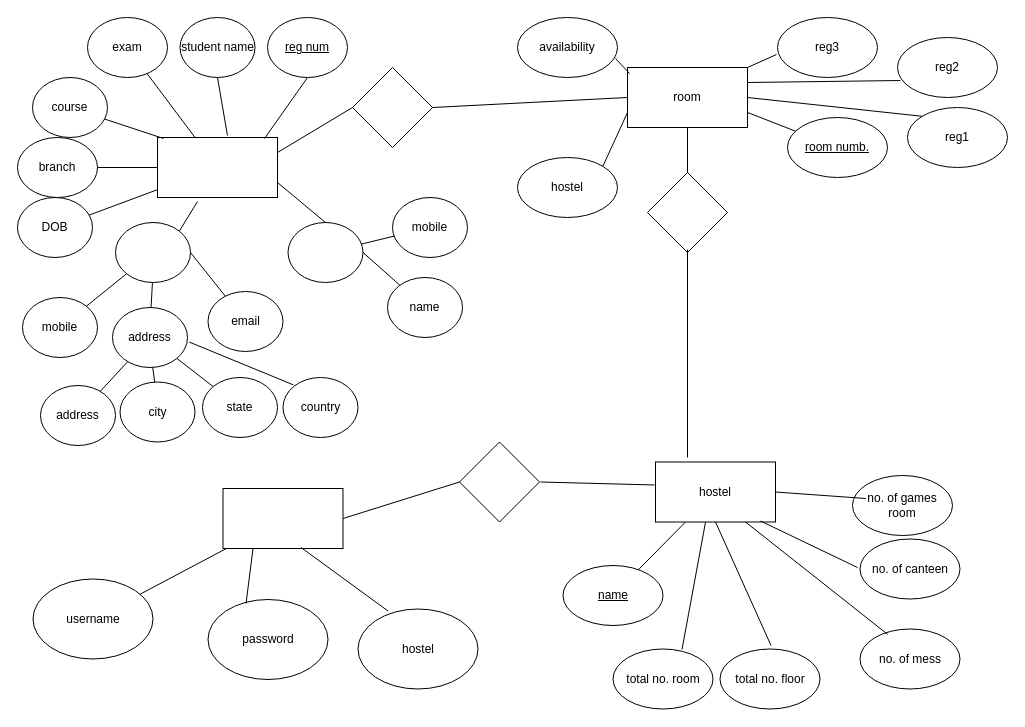
Image size: 1025x727. Some labels were removed from this diagram. The shapes that lost their labels are listed below. From the top down, each one's centre as x and y in pixels, then its label:
At point (392, 107): "stays".
At point (217, 167): "student".
At point (687, 212): "has".
At point (152, 252): "contact info".
At point (325, 252): "gaurdian info".
At point (499, 481): "manages".
At point (282, 518): "admin".
